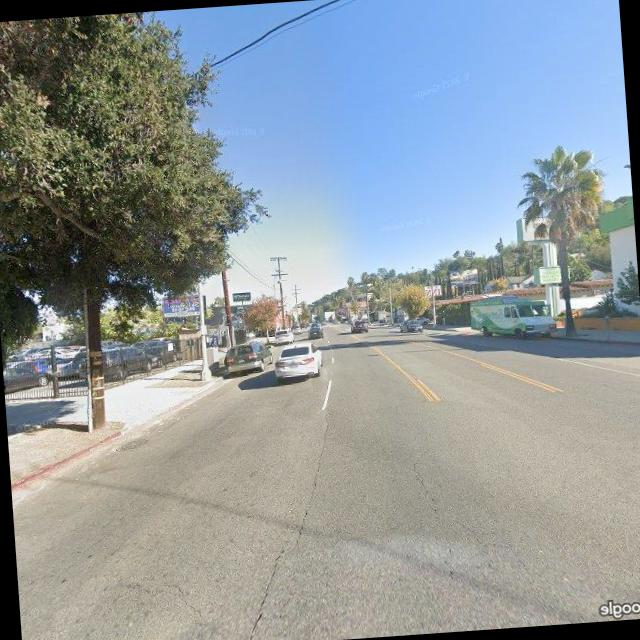pothole: (410, 449, 440, 515)
